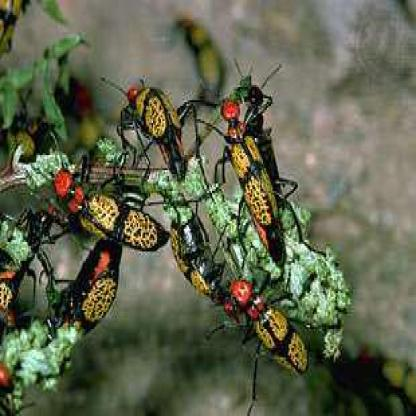beetle: (221, 80, 294, 259), (50, 154, 172, 254), (113, 77, 213, 182), (223, 278, 316, 378), (165, 212, 230, 310), (50, 240, 118, 333)
